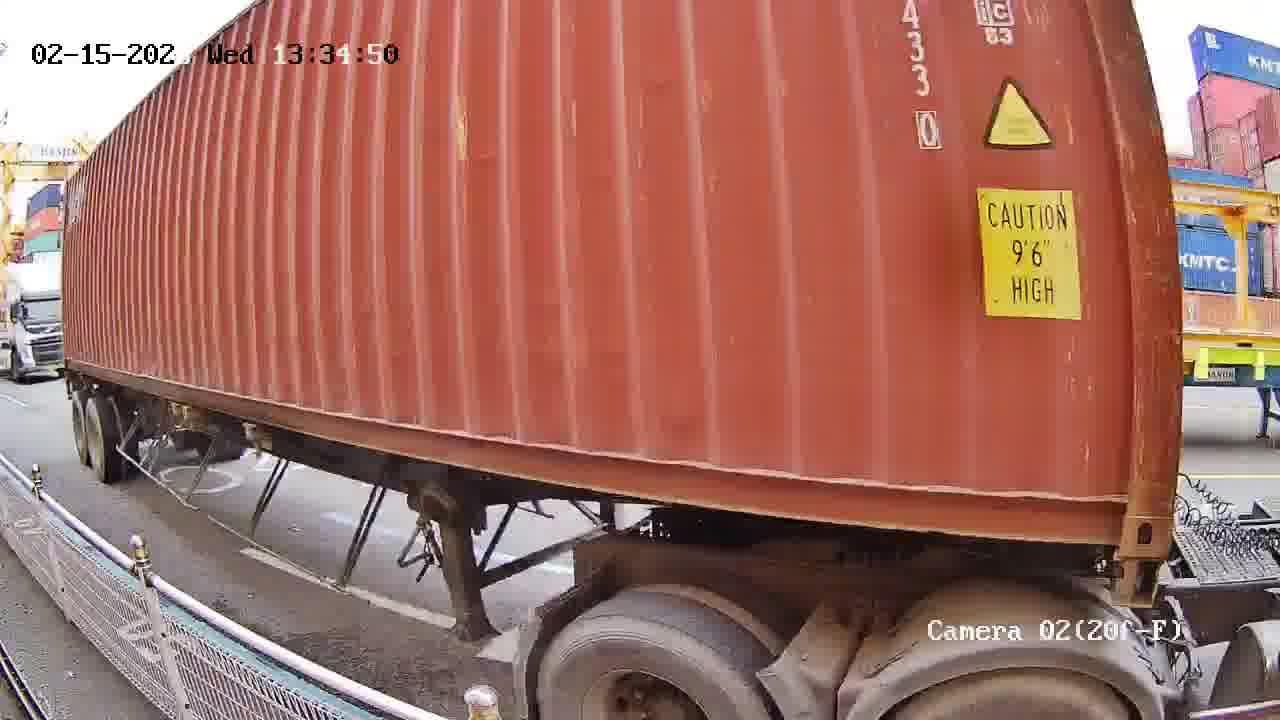Cone: (1115, 558, 1166, 608)
Hole_R: (1046, 448, 1179, 555)
Tire: (538, 618, 783, 718), (898, 669, 1136, 718)
